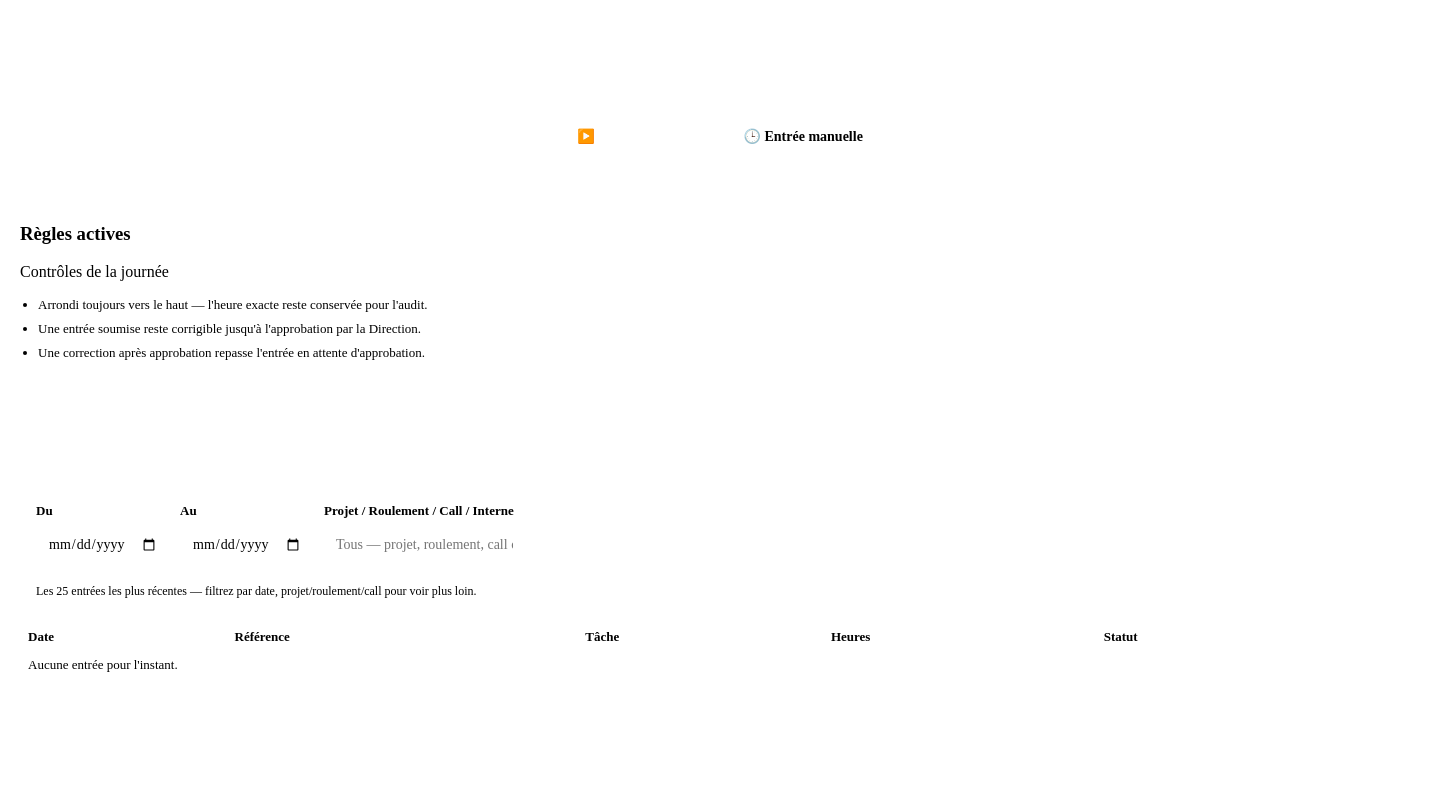
Scenario: TimePunchPage › ouvre la modale 'Débuter une tâche' au clic
The width and height of the screenshot is (1440, 810).
Click the button "▶️ Débuter une tâche". click: (642, 136)
box: [564, 117, 720, 156]
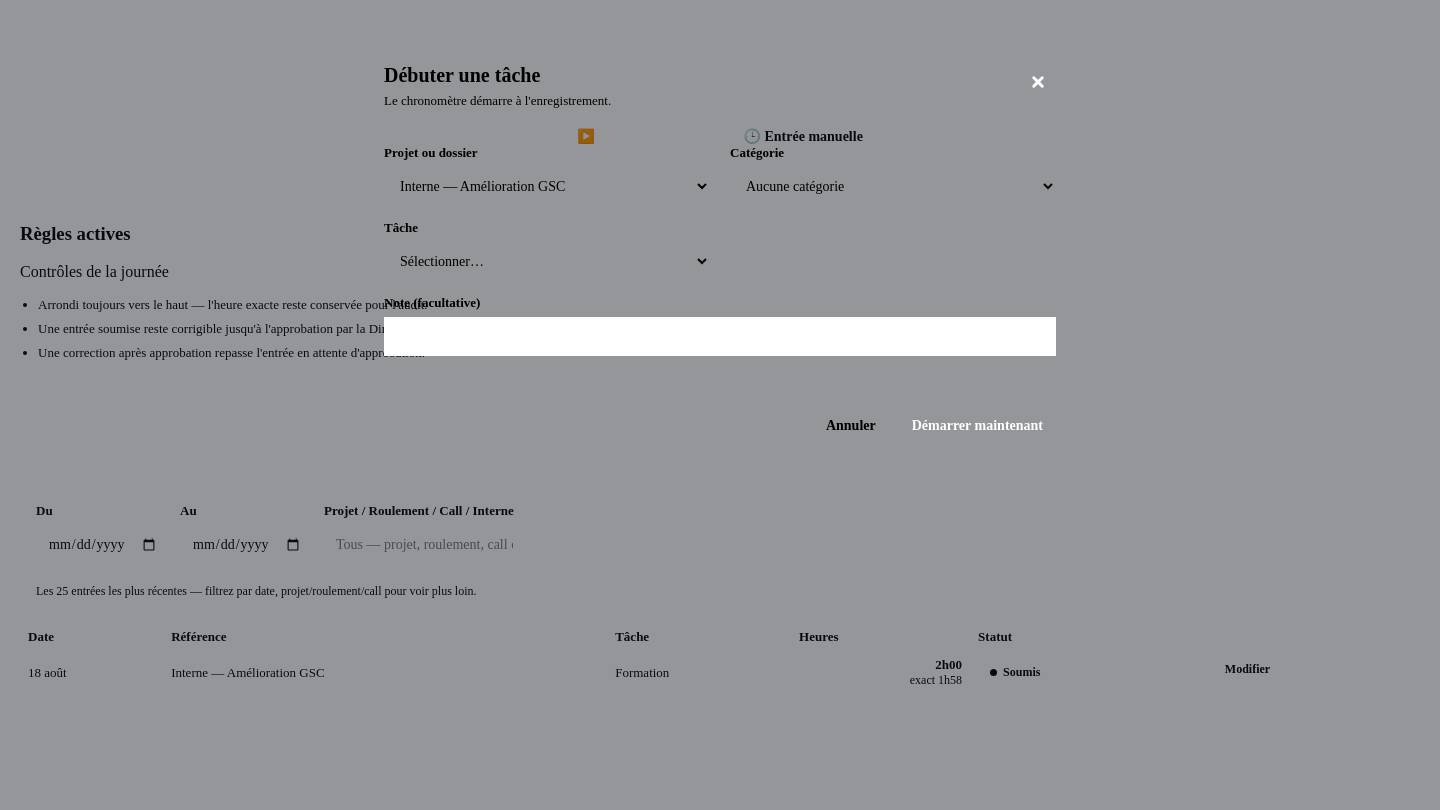
Check: the text "Le chronomètre démarre à l'enregistrement." is shown, box [384, 93, 611, 109]
